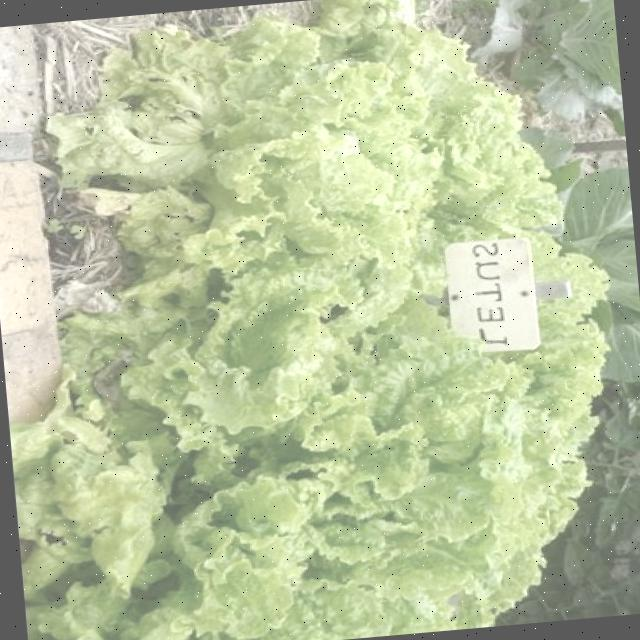Healthy: (38, 357, 530, 623)
